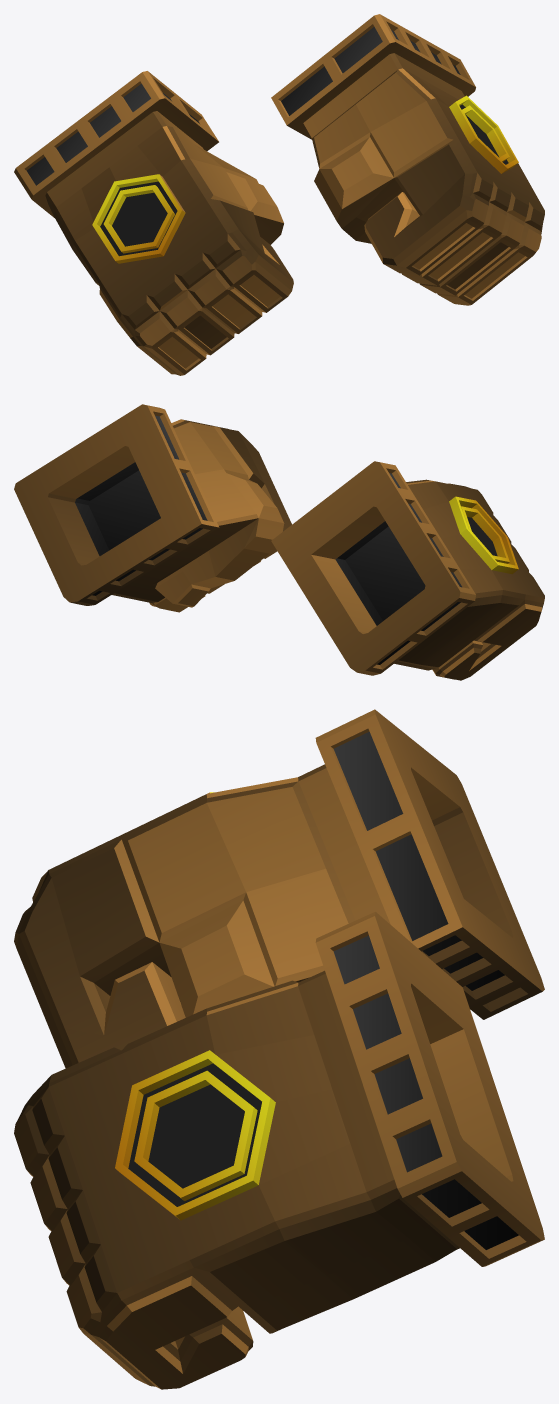
Rendered from gauntlet_force.fbx.
The picture shows the model from 3 angles, top to bottom: view 1: azimuth 30°, elevation 25°; view 2: azimuth 150°, elevation 25°; view 3: azimuth 270°, elevation 25°; orthographic projection. The views are drawn at different scales.
Parts seen in each view (by area): view 1: gaunt_right, gaunt_left; view 2: gaunt_right, gaunt_left; view 3: gaunt_left, gaunt_right.
Part boxes in pixels (<box>): gaunt_right: <box>14,71,293,375</box>; gaunt_left: <box>271,14,544,305</box>; gaunt_right: <box>271,461,544,680</box>; gaunt_left: <box>14,404,291,612</box>; gaunt_left: <box>14,911,544,1389</box>; gaunt_right: <box>14,709,544,1068</box>.
Bounding box in the file's own units: 111 × 60.41 × 64.32.
